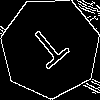T: (25, 22, 77, 78)
